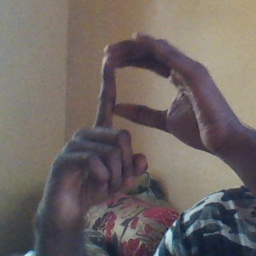P: (59, 27, 216, 204)
